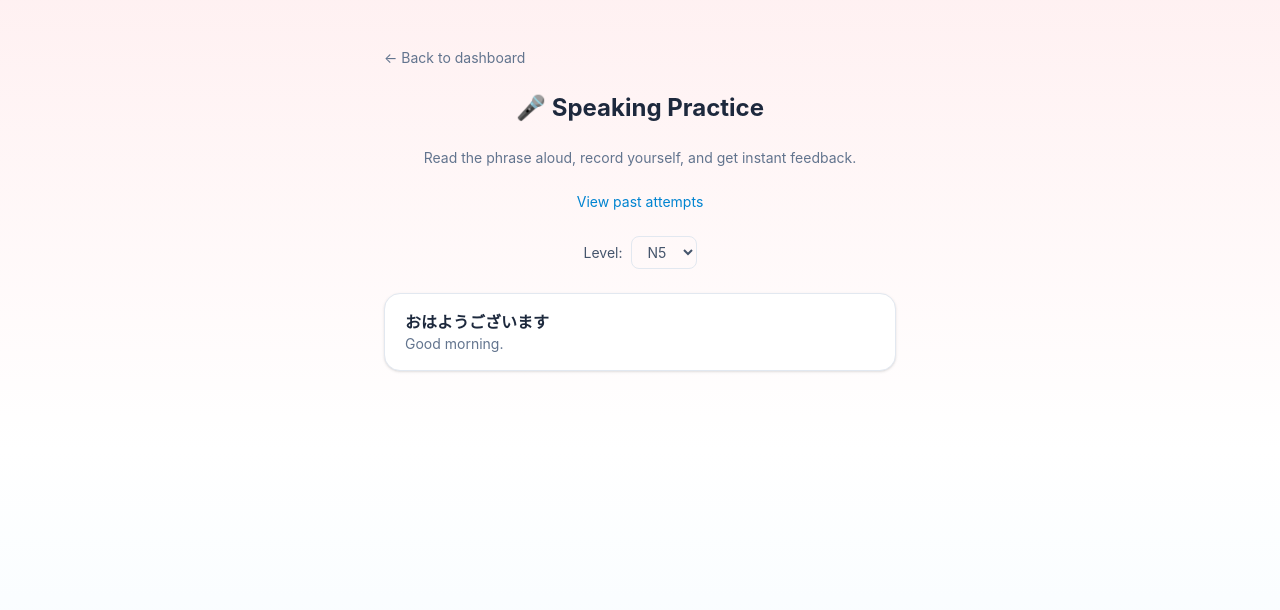
Test: SpeakingPracticePage › submits the recording and shows the result
This screenshot has width=1280, height=610.
Click the text "Good morning.": (454, 344) x1=405 y1=335 x2=504 y2=352
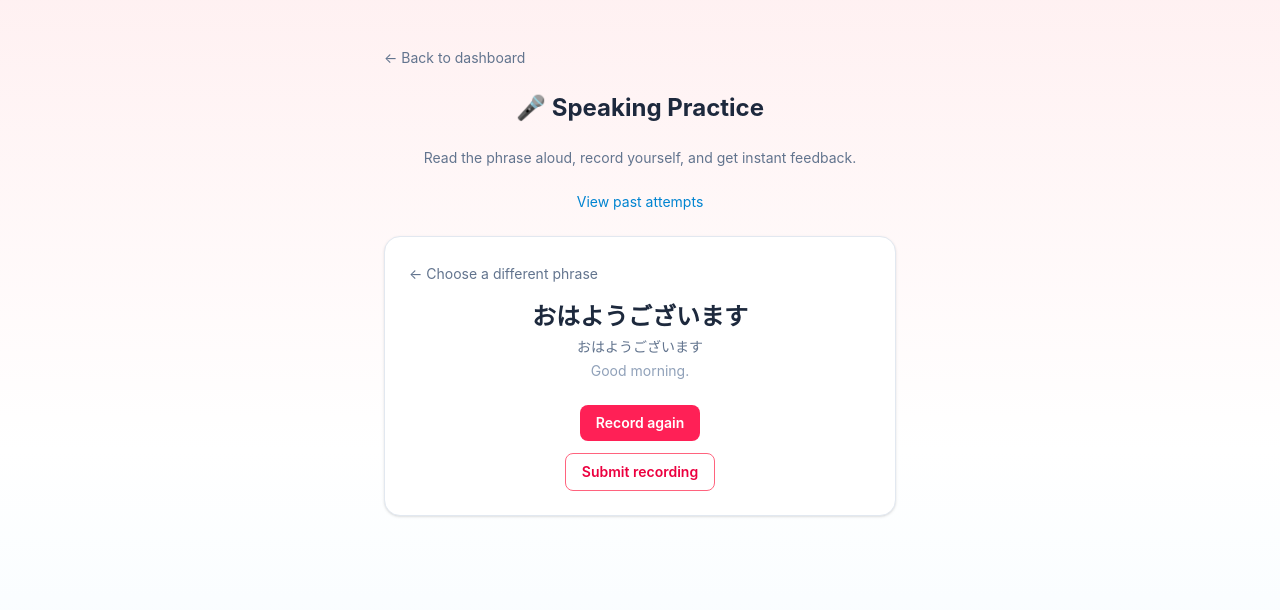
Click the button "Submit recording": (640, 472) x1=565 y1=453 x2=715 y2=491
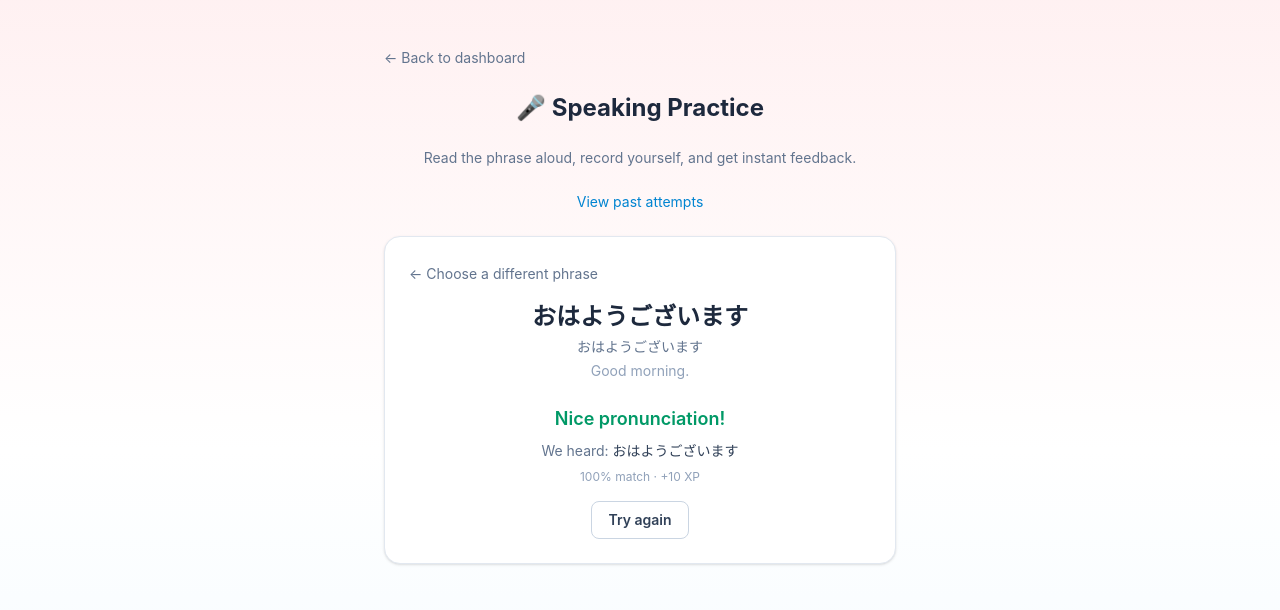
Expected: the text "Nice pronunciation!" is shown, x1=555 y1=405 x2=725 y2=433
Expected: the text "100% match · +10 XP" is shown, x1=580 y1=469 x2=700 y2=485
